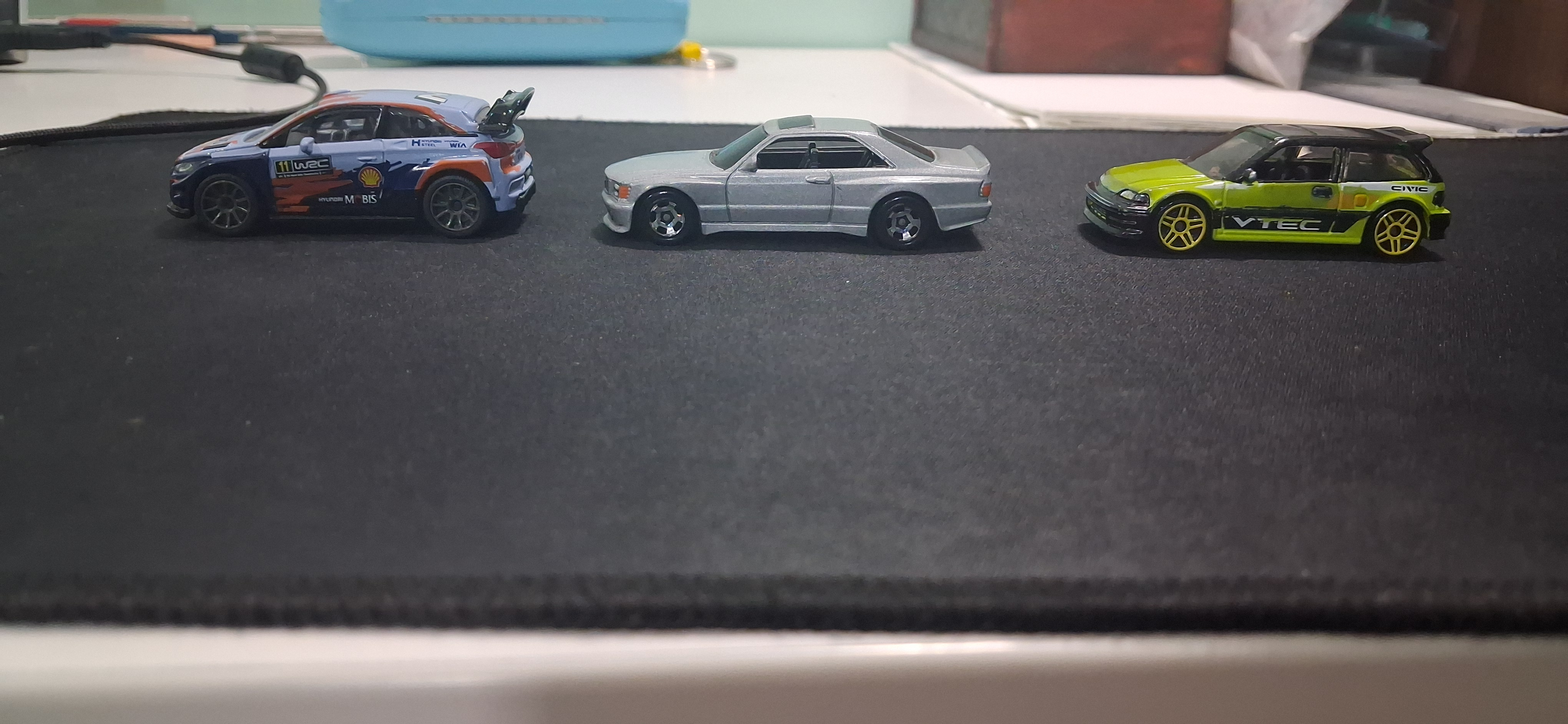Honda_Civic: (1078, 103, 1465, 292)
Hyundai_I20_WRC: (157, 64, 566, 256)
Mercedes_Benz_560_SEC_AMG: (588, 118, 1019, 274)
